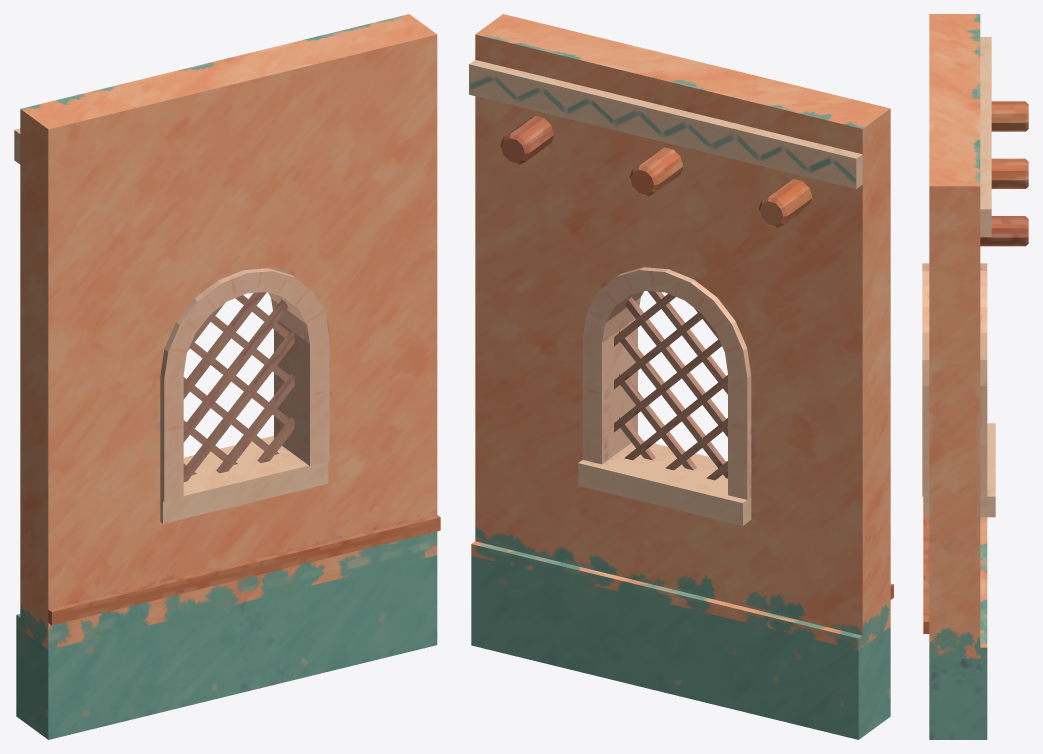
Rendered from wall2_window.fbx.
The picture shows the model from 3 angles, left to right: view 1: azimuth 30°, elevation 25°; view 2: azimuth 150°, elevation 25°; view 3: azimuth 270°, elevation 25°; orthographic projection. The views are drawn at different scales.
Parts seen in each view (by area): view 1: wall2_window; view 2: wall2_window; view 3: wall2_window.
Boxes of the visible parts, x1,y1,x2,y2 form: wall2_window: [14, 14, 440, 739]; wall2_window: [469, 14, 893, 739]; wall2_window: [922, 14, 1028, 739].
Bounding box in the file's own units: 8 × 12 × 2.09.
1 material, 1 textured.
